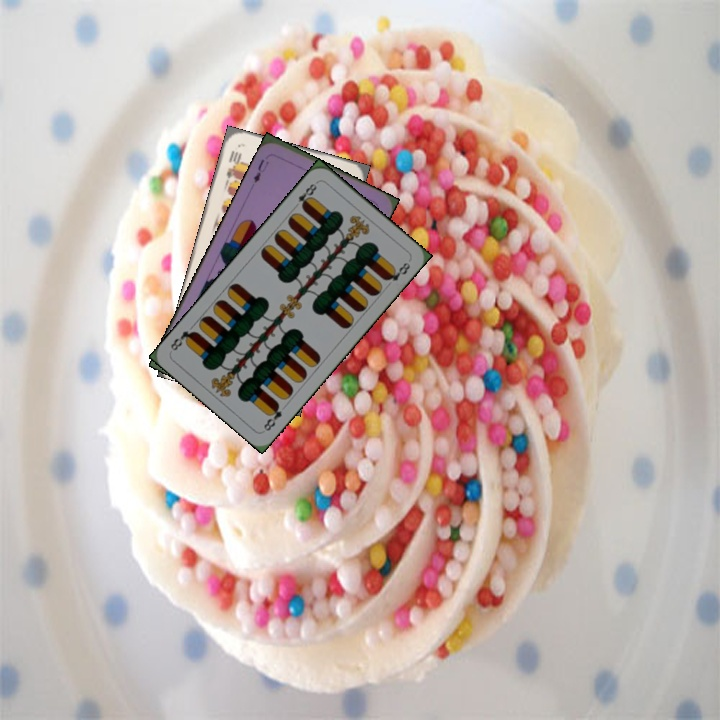E10: (222, 146, 243, 181)
E8: (290, 178, 320, 212), (259, 399, 285, 434)
EU: (249, 155, 271, 186)
